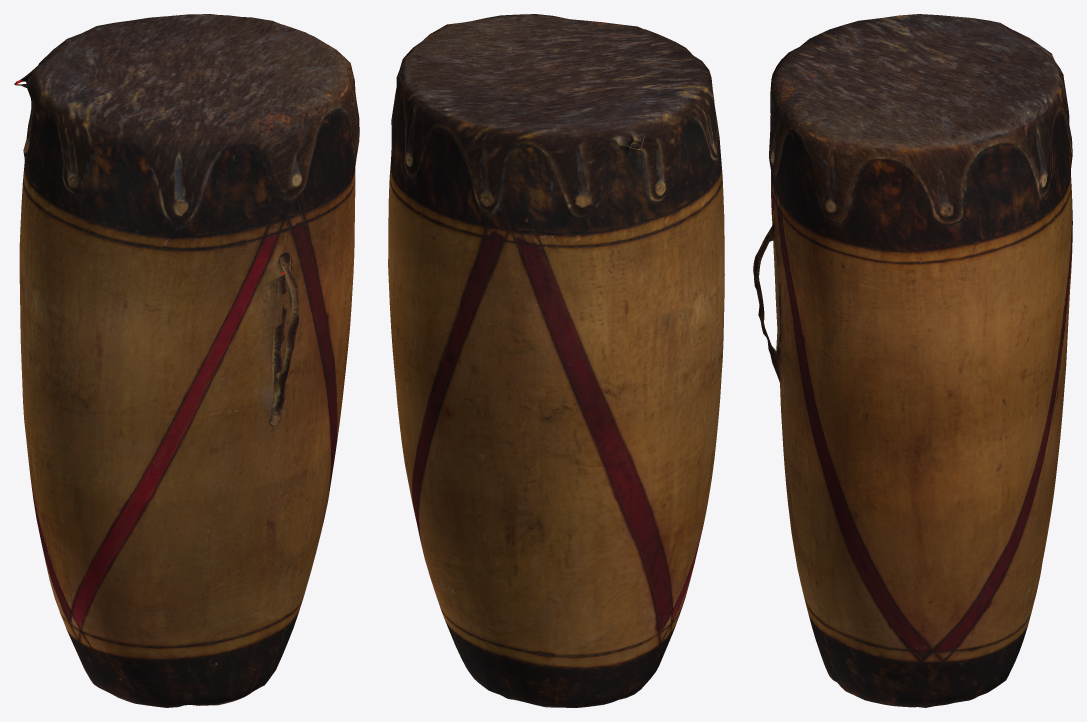
File: african_drum.glb
3 views of the same model, side by side, from view 1: azimuth 30°, elevation 25°; view 2: azimuth 150°, elevation 25°; view 3: azimuth 270°, elevation 25° (orthographic).
Parts seen in each view (by area): view 1: African_Drum_Retopo; view 2: African_Drum_Retopo; view 3: African_Drum_Retopo.
Boxes of the visible parts, box(x1,y1,x2,y2) form: African_Drum_Retopo: box(14, 14, 359, 707); African_Drum_Retopo: box(388, 14, 724, 707); African_Drum_Retopo: box(753, 14, 1072, 707).
Bounding box in the file's own units: 2.12 × 4.11 × 1.98.
Materials: 1 (1 with a texture image).
